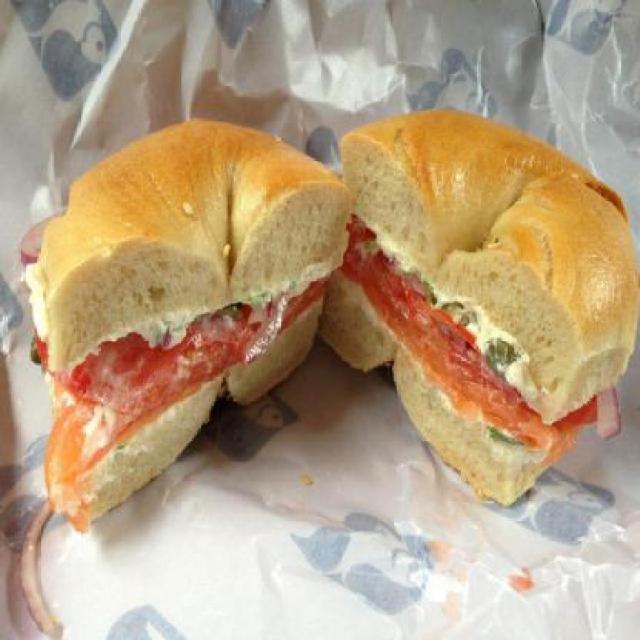Bagel: (30, 118, 352, 532), (320, 107, 640, 506)
